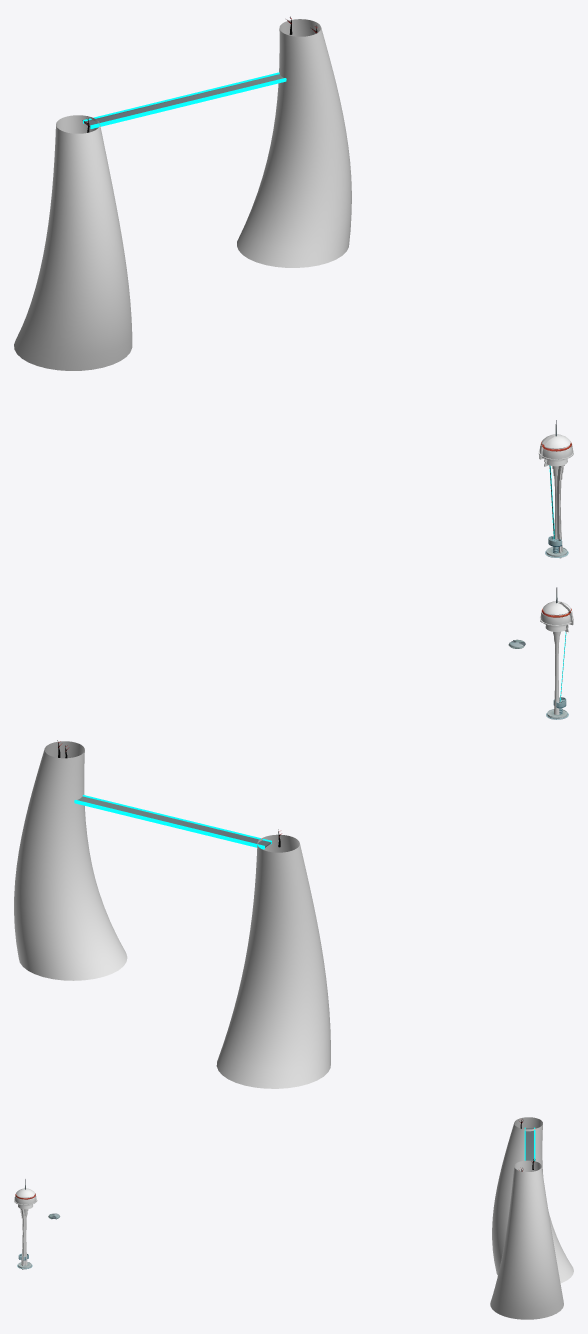
Rendered from town02.glb.
3 views of the same model, one above another, from view 1: azimuth 30°, elevation 25°; view 2: azimuth 150°, elevation 25°; view 3: azimuth 270°, elevation 25° (orthographic). The views are drawn at different scales.
Visible parts, largest first — view 1: Factory (1), Factory, Glowing Bridge, Tower_02 (1); view 2: Factory (1), Factory, Glowing Bridge, Tower_02 (1); view 3: Factory, Factory (1), Tower_02 (1), Glowing Bridge.
Part boxes in pixels (box(x1,y1,x2,y2)): Factory (1): box(14, 115, 132, 370); Factory: box(237, 19, 351, 267); Glowing Bridge: box(83, 72, 286, 128); Tower_02 (1): box(538, 434, 573, 558); Factory (1): box(216, 834, 330, 1088); Factory: box(14, 741, 127, 980); Glowing Bridge: box(74, 795, 271, 849); Tower_02 (1): box(539, 601, 573, 714); Factory: box(490, 1160, 563, 1319); Factory (1): box(492, 1117, 573, 1283); Tower_02 (1): box(14, 1188, 37, 1269); Glowing Bridge: box(524, 1127, 535, 1160).
Bounding box in the file's own units: 76.71 × 64.19 × 178.
3 materials, 2 textured.
